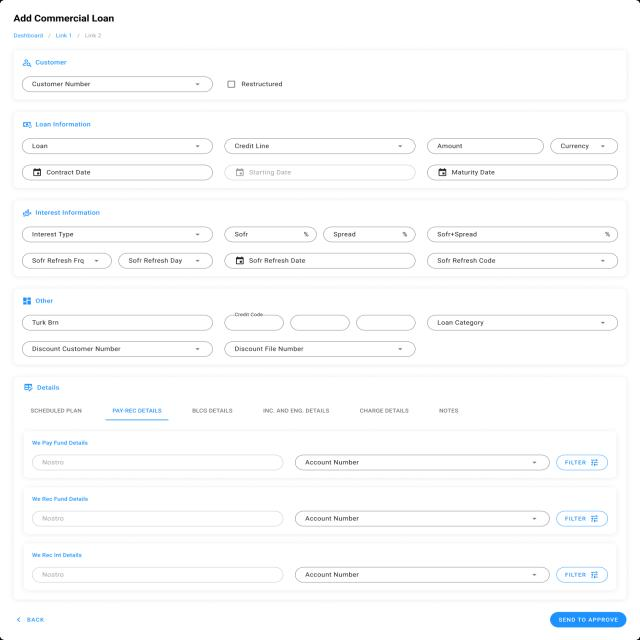QLabel: (11, 10, 118, 26), (32, 494, 88, 504), (30, 438, 90, 447), (31, 550, 85, 560), (34, 209, 101, 217), (556, 616, 619, 623), (35, 121, 91, 128), (36, 383, 61, 392), (34, 297, 56, 306), (35, 60, 67, 66), (25, 615, 45, 624), (562, 459, 586, 466), (563, 571, 586, 578), (564, 515, 586, 522)
VBreadcrumbs: (10, 30, 106, 40)
VBtn: (550, 612, 627, 628), (556, 454, 608, 471), (556, 510, 608, 527), (556, 566, 608, 582), (10, 612, 50, 630)
VCard: (13, 377, 626, 600), (12, 199, 627, 278), (13, 288, 628, 365), (12, 113, 628, 188), (12, 50, 626, 100)
VCheckbox: (223, 78, 286, 90)
VCombobox: (294, 454, 550, 472), (294, 566, 550, 584), (295, 510, 550, 528), (22, 340, 213, 358), (22, 138, 214, 155), (22, 226, 214, 243), (426, 314, 618, 331), (224, 340, 416, 357), (22, 76, 213, 92), (224, 138, 415, 154), (427, 253, 618, 269), (118, 252, 213, 269), (22, 252, 112, 269), (550, 138, 618, 155)
VIcon: (21, 382, 34, 394), (20, 295, 33, 306), (20, 58, 33, 68), (588, 570, 601, 580), (21, 119, 33, 129), (21, 208, 32, 218), (589, 514, 599, 524), (589, 458, 599, 467), (15, 616, 22, 624)
VInlineDatepicker: (224, 163, 416, 180), (22, 164, 213, 181), (427, 164, 618, 181), (225, 252, 415, 268)
VTextField: (32, 567, 283, 583), (32, 455, 283, 470), (32, 511, 283, 526), (427, 226, 618, 243), (22, 315, 213, 330), (427, 138, 544, 154), (224, 225, 317, 242), (323, 226, 416, 243), (225, 312, 284, 331), (356, 314, 416, 331), (291, 315, 350, 331)
